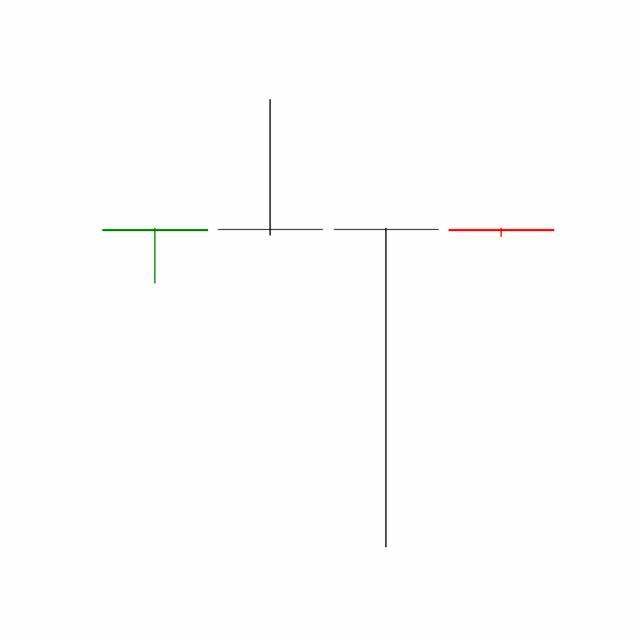Dragonfly Doji: (329, 225, 445, 552)
